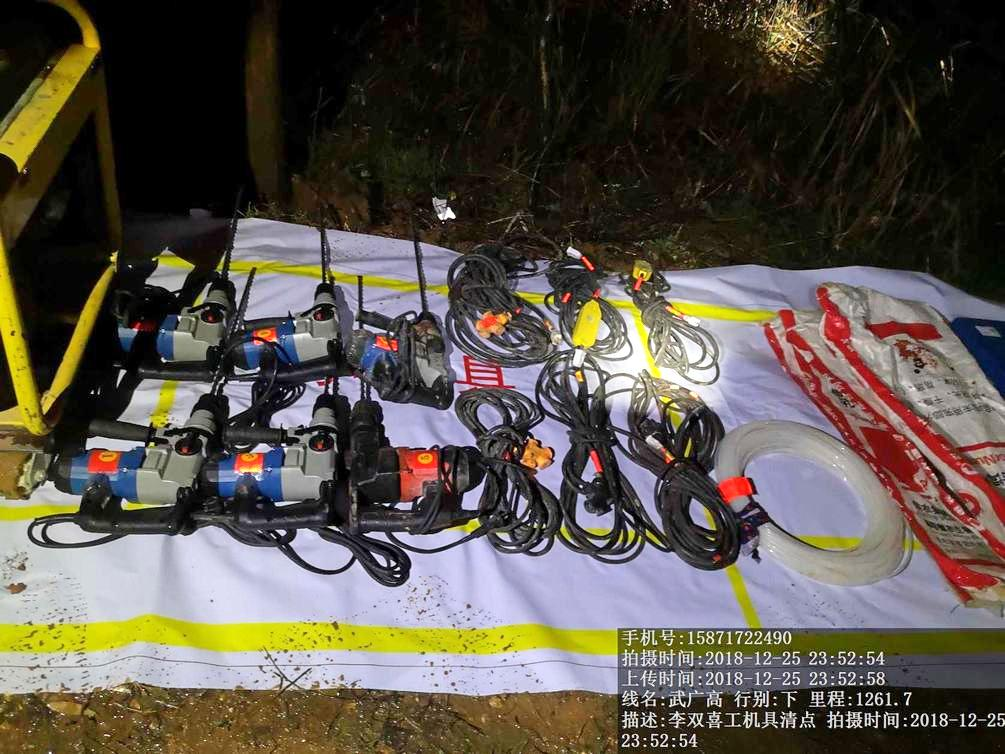BZD: (783, 290, 1001, 429)
DX: (545, 360, 638, 561), (623, 233, 737, 381), (456, 387, 556, 555), (639, 379, 719, 567), (441, 250, 548, 363), (544, 239, 629, 355)
DZ: (69, 382, 216, 523), (341, 394, 461, 542), (233, 383, 341, 532), (230, 267, 341, 383), (349, 304, 464, 399), (118, 273, 229, 368)
SG: (714, 412, 920, 592)
